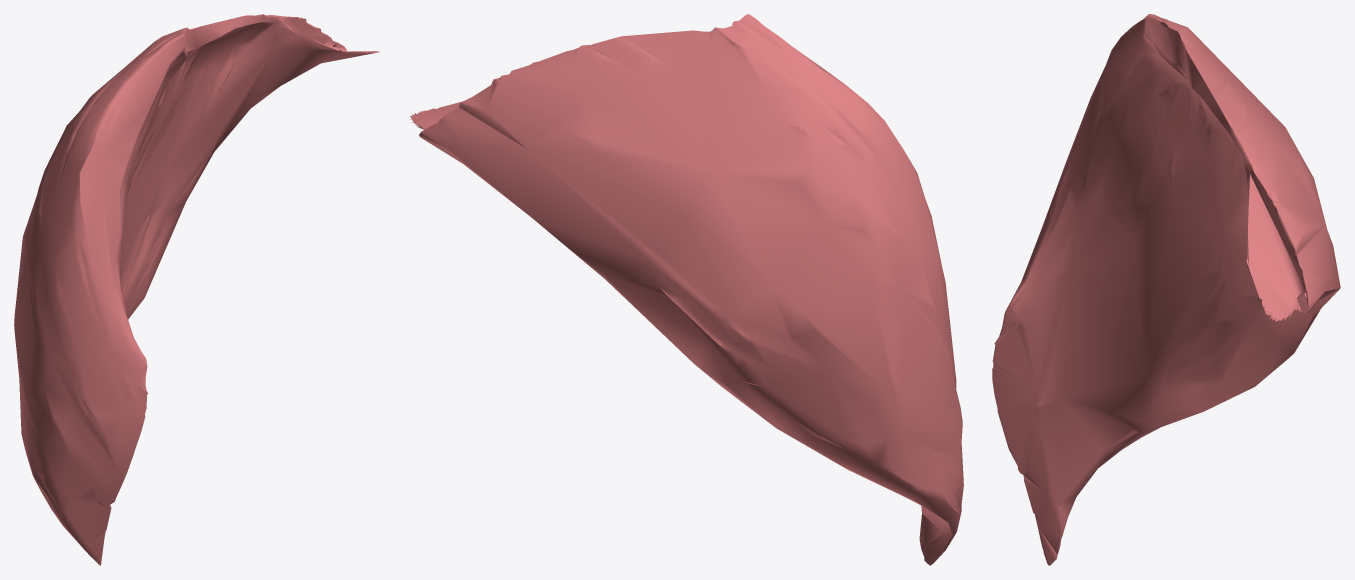
3 renders of one model, left to right at view 1: azimuth 30°, elevation 25°; view 2: azimuth 150°, elevation 25°; view 3: azimuth 270°, elevation 25°, orthographic. The views are drawn at different scales.
Visible parts, largest first — view 1: FJ1513; view 2: FJ1513; view 3: FJ1513.
Part boxes in pixels (box(x1,y1,x2,y2)): FJ1513: box(14, 14, 379, 565); FJ1513: box(410, 14, 963, 565); FJ1513: box(992, 14, 1340, 565).
Size of the model in its own units: 0.1356 by 0.1513 by 0.0761.
